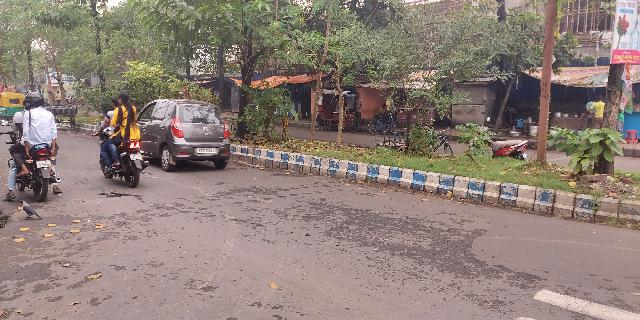Car: (131, 96, 237, 171)
Motorbike: (90, 92, 149, 188), (7, 102, 61, 200)
